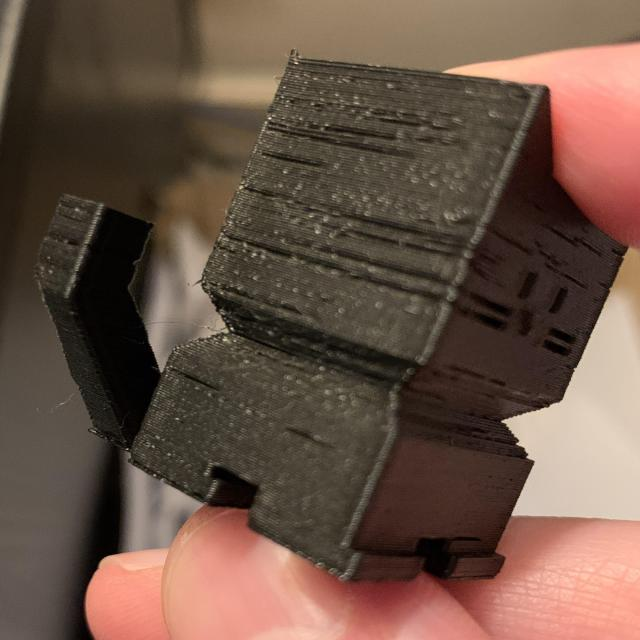Stringing: (206, 91, 457, 316)
